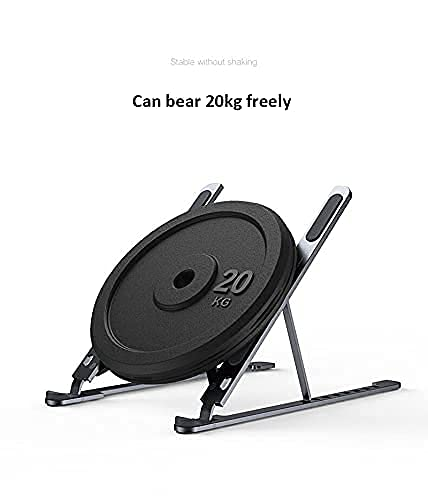Can: (133, 95, 160, 107)
bear: (166, 94, 201, 107)
freely: (246, 94, 291, 110)
